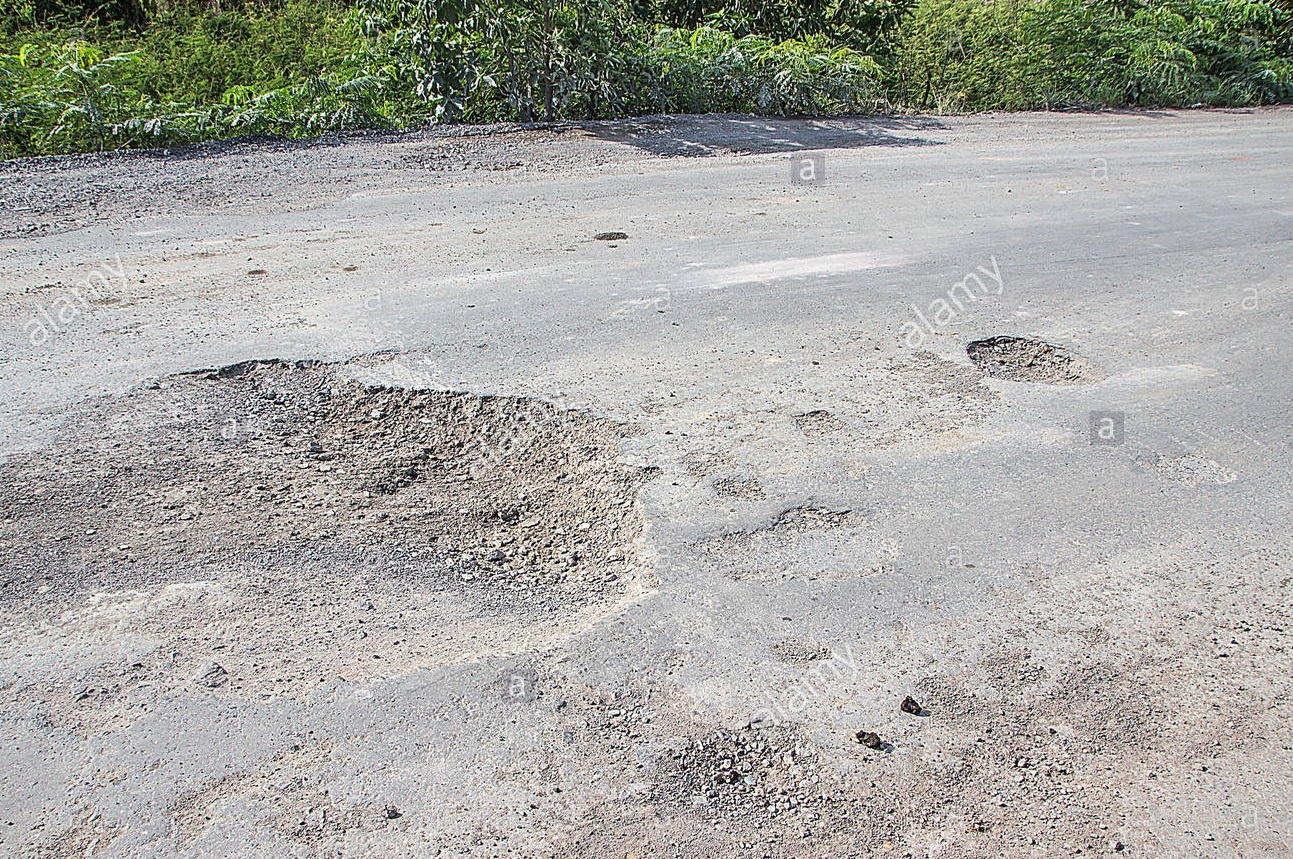pothole: (125, 265, 776, 647), (898, 286, 1149, 421)
